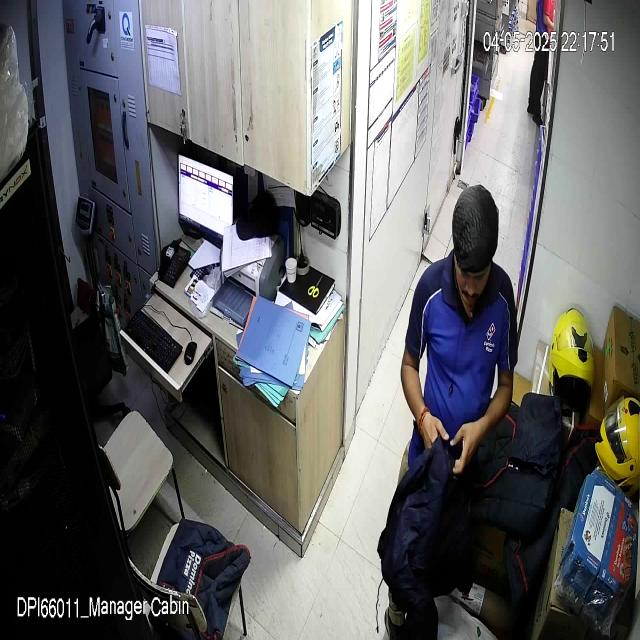helmet: (549, 307, 594, 410), (594, 397, 639, 498)
no_helmet: (451, 181, 500, 305)
